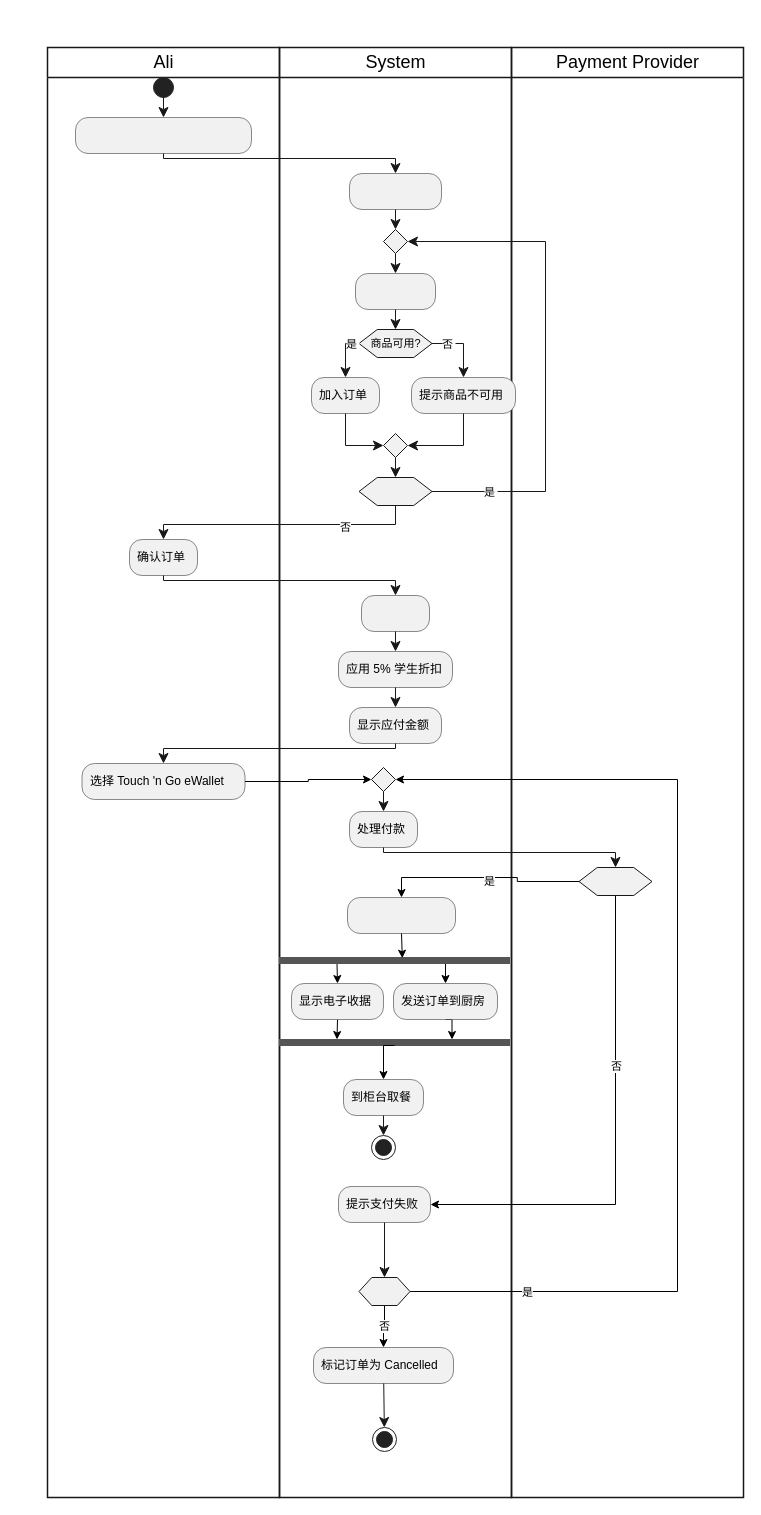
The diagram is 761 pixels wide and 1515 high, and some of its shapes have lost their labels. The shapes that lost their labels are listed below. From the top down, each one's centre as x and y in pixels, then its label:
At pixel 163 135: "已登录并打开 APU Cafe App".
At pixel 395 191: "显示可用菜单".
At pixel 395 291: "选择菜单项".
At pixel 395 491: "继续添加?".
At pixel 395 613: "计算总价".
At pixel 615 881: "支付成功?".
At pixel 401 915: "标记订单为 Paid".
At pixel 384 1291: "重试?".
